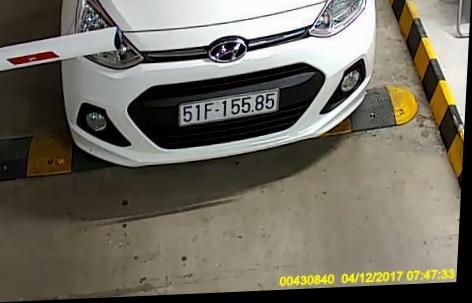License_Plate: (175, 90, 283, 124)
